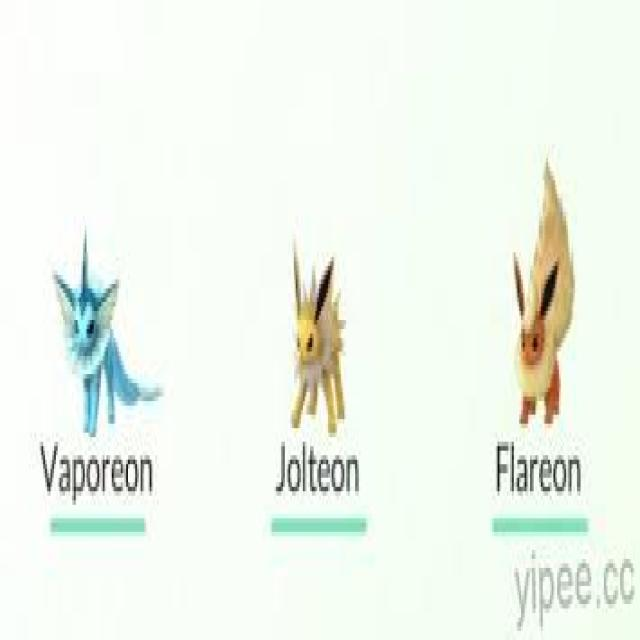Flareon: (514, 263, 561, 419)
Jolteon: (289, 263, 341, 422)
Vaporeon: (59, 264, 120, 412)
